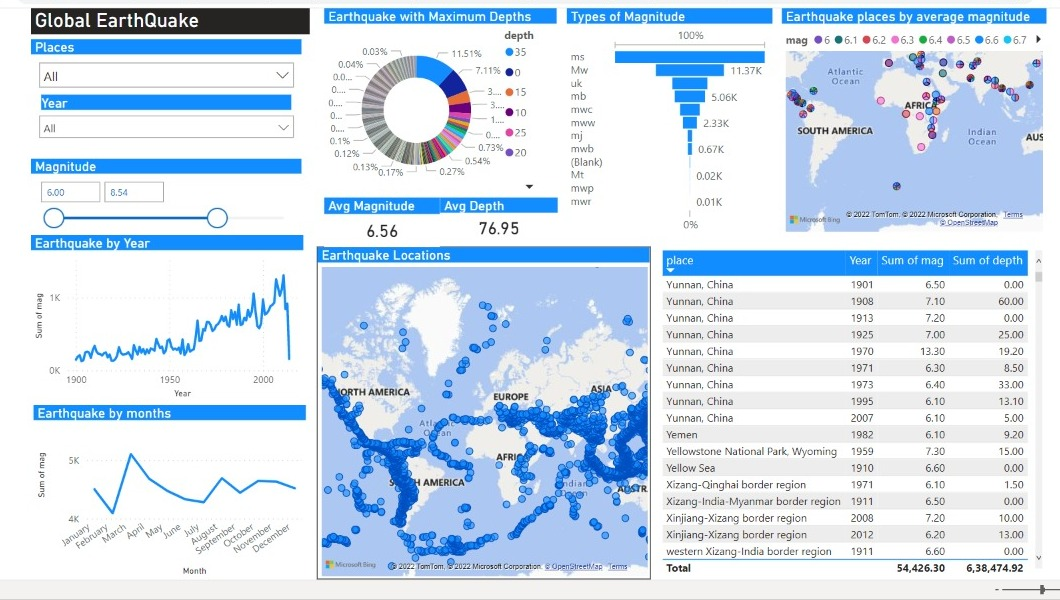

The dashboard page shown, as its layout file describes it:
{"tool":"powerbi","page":{"name":"Page 1","canvas":[1280,720],"ordinal":0},"visuals":[{"type":"funnel","title":"Types of Magnitude ","fields":{"Category":["Sheet1.magType"],"Y":["Sum(Sheet1.mag)"]},"box":[674.8,0,259.1,286],"z":0},{"type":"map","title":"Earthquake places by average magnitude ","fields":{"Category":["Sheet1.place"],"Y":["Avg(Sheet1.nst)"],"Series":["Sheet1.mag"]},"box":[946.1,0,333.7,286],"z":1000},{"type":"slicer","fields":{"Values":["Sheet1.Date.Variation.Date Hierarchy.Year","Sheet1.mag","Sheet1.place"]},"box":[374.1,110,279.9,70.9],"z":2000},{"type":"slicer","title":"Magnitude","fields":{"Values":["Sheet1.mag"]},"box":[0,189.5,341.1,96.6],"z":3000},{"type":"slicer","title":"Places ","fields":{"Values":["Sheet1.place","Sheet1.Date.Variation.Date Hierarchy.Year"]},"box":[0,39.1,341.1,64.8],"z":4000},{"type":"lineChart","title":"Earthquake by months","fields":{"Category":["Sheet1.Date.Variation.Date Hierarchy.Month"],"Y":["Sum(Sheet1.mag)"]},"box":[3.7,500,343.5,220],"z":5000},{"type":"tableEx","fields":{"Values":["Sheet1.place","Sheet1.Date.Variation.Date Hierarchy.Year","Sum(Sheet1.mag)","Sum(Sheet1.depth)"]},"box":[789.7,300.7,490.2,419.3],"z":6000},{"type":"lineChart","title":"Earthquake by Year","fields":{"Y":["Sum(Sheet1.mag)"],"Category":["Sheet1.Date.Variation.Date Hierarchy.Year"]},"box":[0,286,343.5,210.2],"z":7000},{"type":"map","title":"Earthquake Locations","fields":{"Y":["Sheet1.latitude"],"X":["Sheet1.longitude"]},"box":[360.6,300.7,420.5,419.3],"z":8000},{"type":"donutChart","title":"Earthquake with Maximum Depths","fields":{"Category":["Sheet1.depth"],"Y":["Sum(Sheet1.mag)"]},"box":[369.8,0,292.8,237.8],"z":9000},{"type":"card","title":"Avg Magnitude","fields":{"Values":["Avg(Sheet1.mag)"]},"box":[369.2,238.4,145.5,62.3],"z":10000},{"type":"card","title":"Avg Depth","fields":{"Values":["Avg(Sheet1.depth)"]},"box":[515.9,238.4,147.9,58.7],"z":11000},{"type":"slicer","fields":{"Values":["Sheet1.Date.Variation.Date Hierarchy.Year"]},"box":[0,103.9,341.1,85.6],"z":12000},{"type":"textbox","title":"Global EarthQuake Dashboard","box":[0,0,350.8,33],"z":13000}]}

Visuals, with their boxes in screenshot pixels (x1, y1, x2, y2), scaled from the page's 1280x720 canvas onto the 1060x600 screenshot:
"Types of Magnitude " funnel: <box>559,0,773,238</box>
"Earthquake places by average magnitude " map: <box>783,0,1059,238</box>
slicer - Sheet1.Date.Variation.Date Hierarchy.Year x Sheet1.mag: <box>310,92,542,151</box>
"Magnitude" slicer: <box>0,158,282,238</box>
"Places " slicer: <box>0,33,282,87</box>
"Earthquake by months" lineChart: <box>3,417,288,599</box>
tableEx - Sheet1.place x Sheet1.Date.Variation.Date Hierarchy.Year: <box>654,251,1059,599</box>
"Earthquake by Year" lineChart: <box>0,238,284,414</box>
"Earthquake Locations" map: <box>299,251,647,599</box>
"Earthquake with Maximum Depths" donutChart: <box>306,0,549,198</box>
"Avg Magnitude" card: <box>306,199,426,251</box>
"Avg Depth" card: <box>427,199,550,248</box>
slicer - Sheet1.Date.Variation.Date Hierarchy.Year: <box>0,87,282,158</box>
"Global EarthQuake Dashboard" textbox: <box>0,0,291,28</box>
